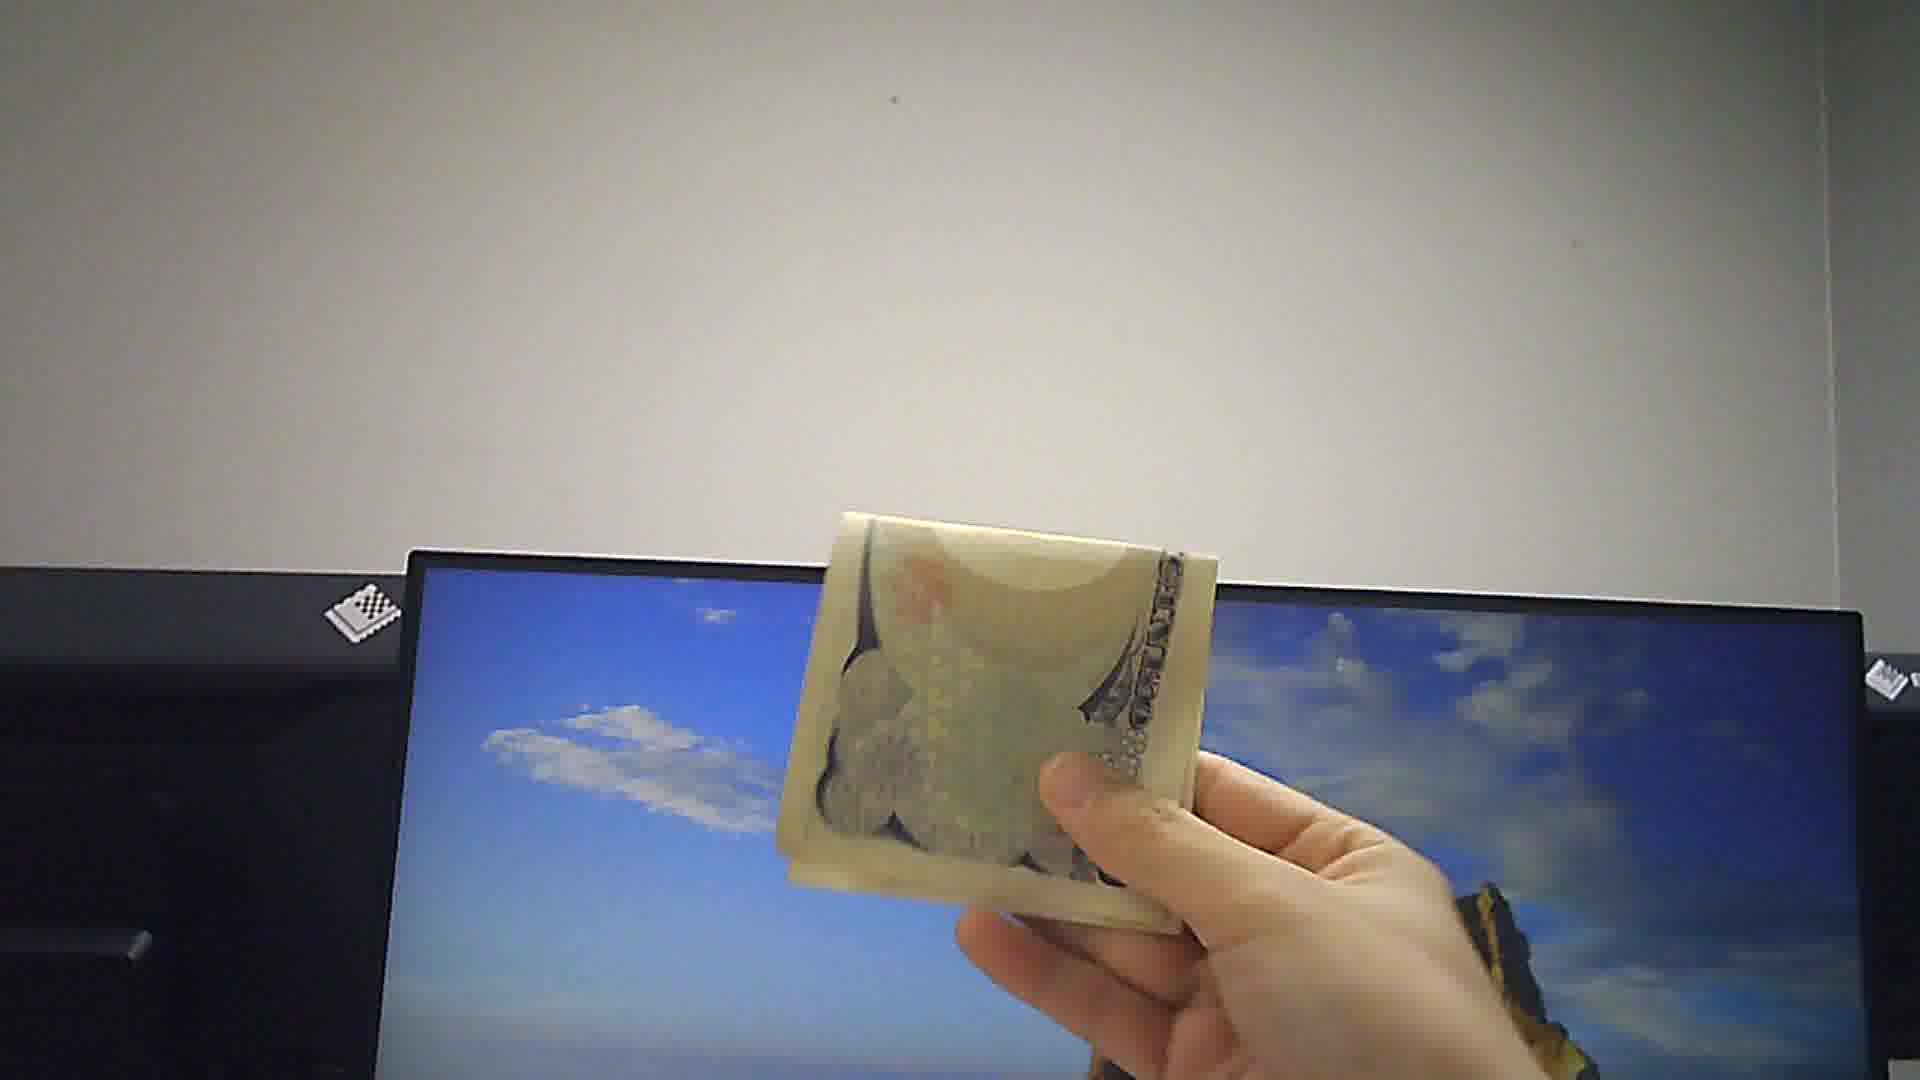1,000 Yen: (781, 497, 1234, 953)
